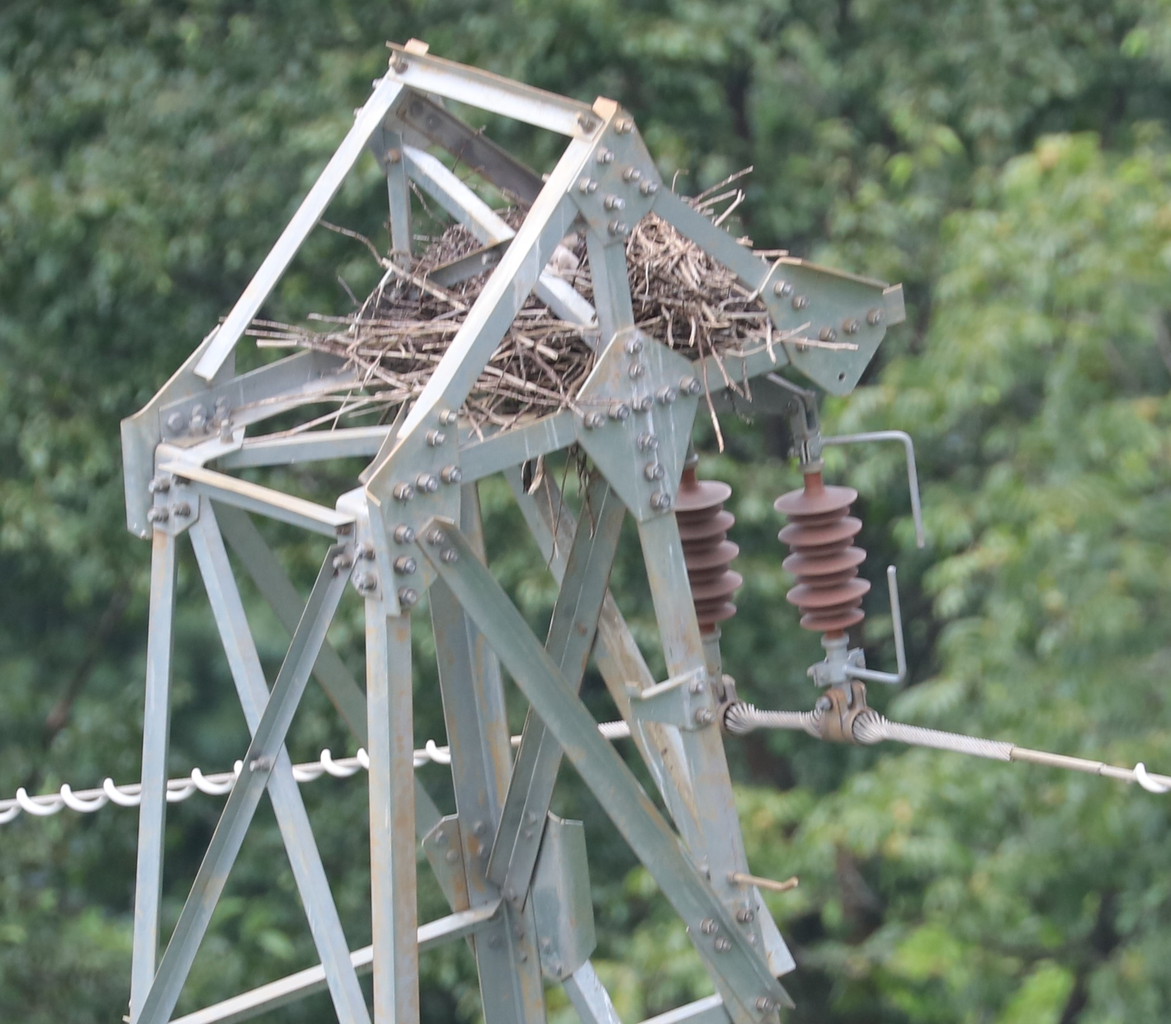nest: (342, 179, 782, 426)
